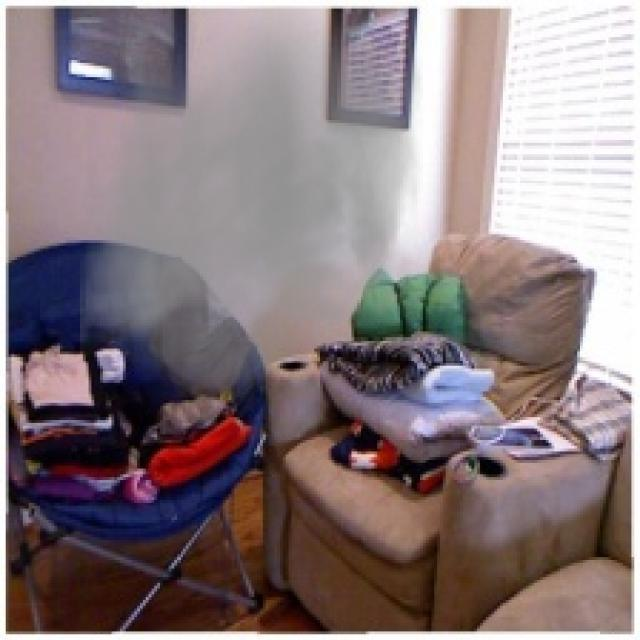Smoke: (80, 6, 423, 420)
